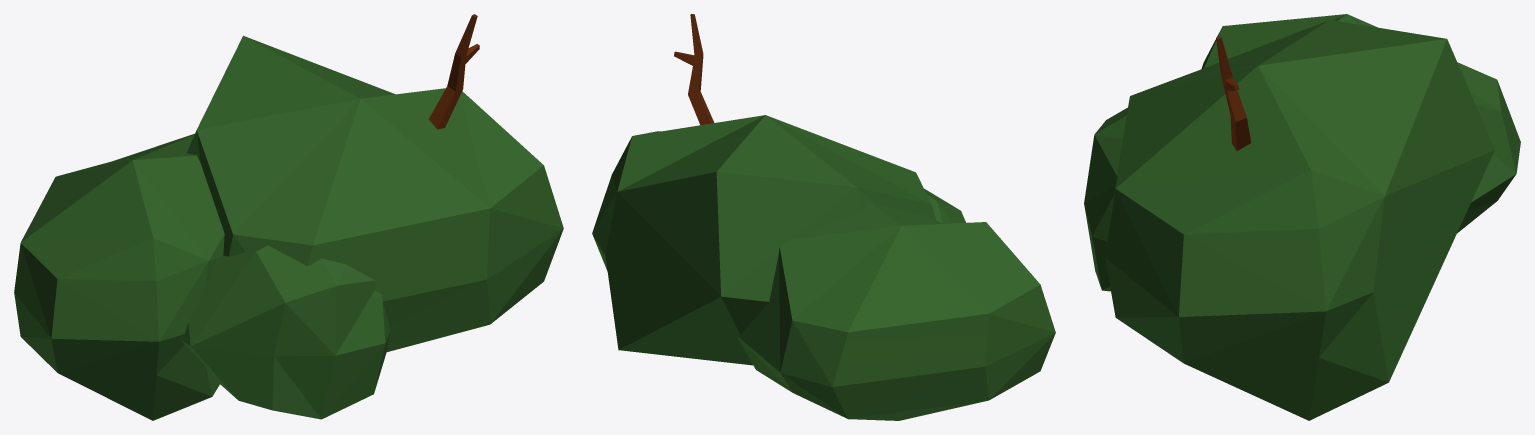
The model's file is Bush1_high.glb.
3 views of the same model, side by side, from view 1: azimuth 30°, elevation 25°; view 2: azimuth 150°, elevation 25°; view 3: azimuth 270°, elevation 25° (orthographic). The views are drawn at different scales.
Parts seen in each view (by area): view 1: Bush_temp_climate_003.001, Bush_temp_climate_003; view 2: Bush_temp_climate_003.001, Bush_temp_climate_003; view 3: Bush_temp_climate_003.001, Bush_temp_climate_003.
Boxes of the visible parts, x1,y1,x2,y2 form: Bush_temp_climate_003.001: (14, 35, 563, 420); Bush_temp_climate_003: (428, 14, 479, 129); Bush_temp_climate_003.001: (592, 115, 1055, 420); Bush_temp_climate_003: (674, 14, 714, 125); Bush_temp_climate_003.001: (1084, 14, 1520, 420); Bush_temp_climate_003: (1216, 36, 1251, 150).
Size of the model in its own units: 1.57 by 1.05 by 1.11.
